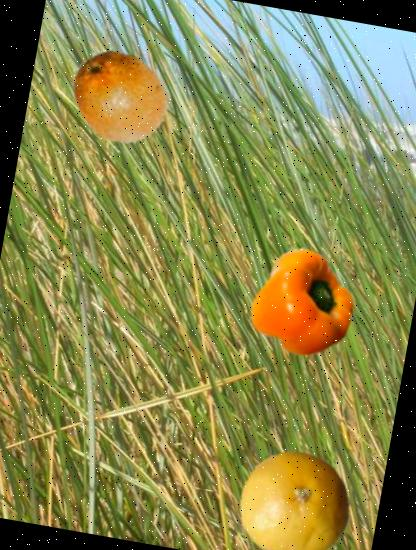Grapefruit: (229, 441, 361, 550)
Kiwi: (60, 38, 178, 156)
Pepper: (243, 242, 366, 364)
